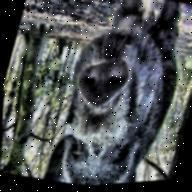boar: (22, 0, 192, 190)
